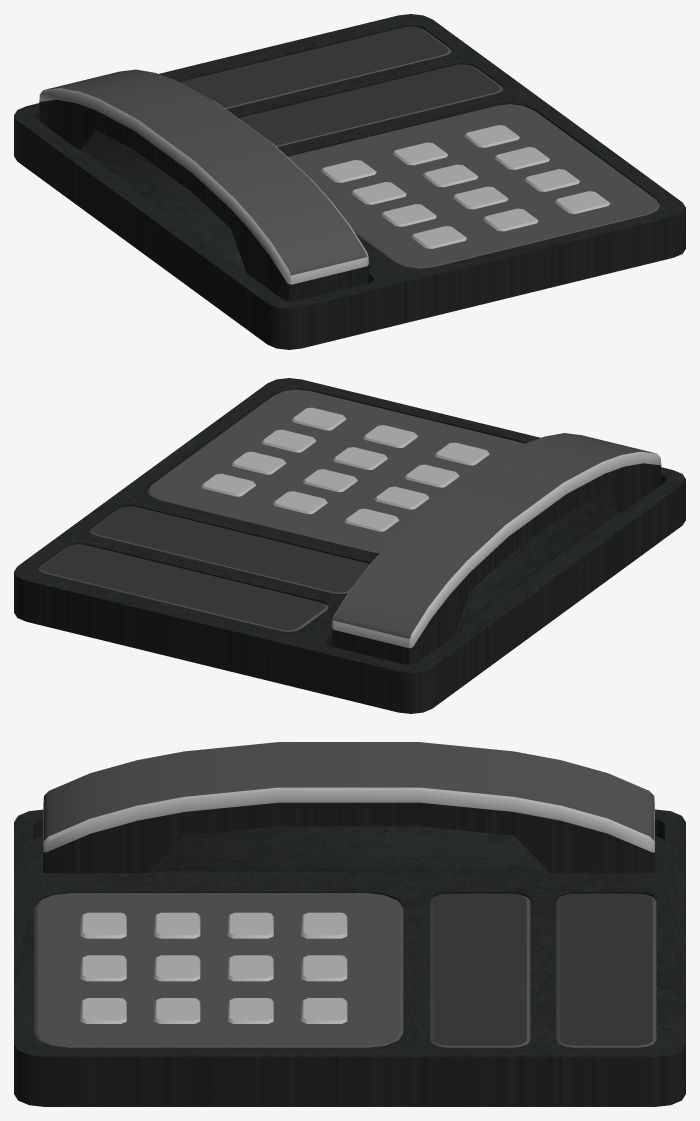
File: desk_phone.glb
3 renders of one model, top to bottom at view 1: azimuth 30°, elevation 25°; view 2: azimuth 150°, elevation 25°; view 3: azimuth 270°, elevation 25°, orthographic. The views are drawn at different scales.
Parts seen in each view (by area): view 1: desk_phone; view 2: desk_phone; view 3: desk_phone.
Boxes of the visible parts, box(x1,y1,x2,y2) form: desk_phone: box(14, 14, 685, 349); desk_phone: box(14, 378, 685, 713); desk_phone: box(14, 742, 685, 1106).
Size of what is drawn, in the model's own units: 0.38 by 0.094 by 0.4362.
2 materials, 2 textured.
